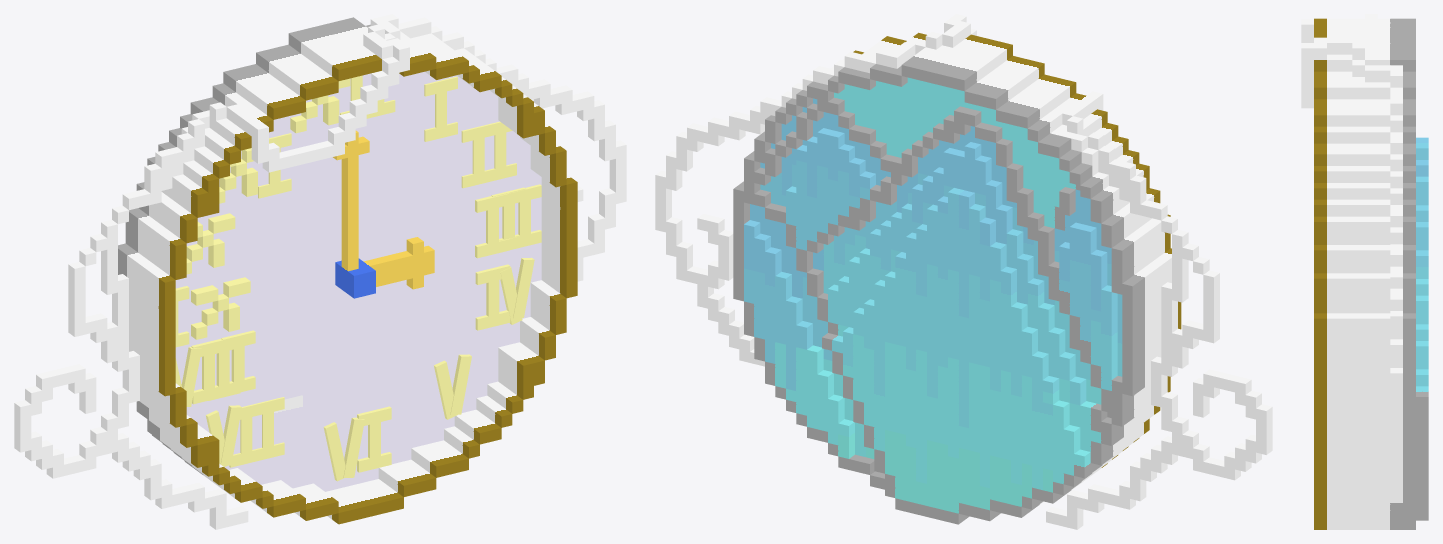
The picture shows the model from 3 angles, left to right: view 1: azimuth 30°, elevation 25°; view 2: azimuth 150°, elevation 25°; view 3: azimuth 270°, elevation 25°; orthographic projection. The views are drawn at different scales.
Parts seen in each view (by area): view 1: 钟表, 9 (×4), 1（4） (×3), 02, 1 (×2), 02（2）, 3（1）, 1（2）, 1（3）, 3（3）, 5（2）3, 5（2）2 (+5 smaller); view 2: 钟表; view 3: 钟表.
Part boxes in pixels (<box>): 钟表: <box>14,14,626,529</box>; 9 (×4): <box>186,78,350,339</box>; 1（4） (×3): <box>191,330,255,404</box>; 02: <box>461,121,516,188</box>; 1 (×2): <box>258,76,457,198</box>; 02（2）: <box>229,397,284,467</box>; 3（1）: <box>475,193,509,258</box>; 1（2）: <box>475,264,510,330</box>; 1（3）: <box>357,406,391,472</box>; 3（3）: <box>509,184,541,249</box>; 5（2）3: <box>343,417,364,477</box>; 5（2）2: <box>450,354,471,414</box>; 钟表: <box>655,14,1272,529</box>; 钟表: <box>1301,14,1428,529</box>.
Bounding box in the file's own units: 57 × 41 × 10.
Materials: 1 (1 with a texture image).
